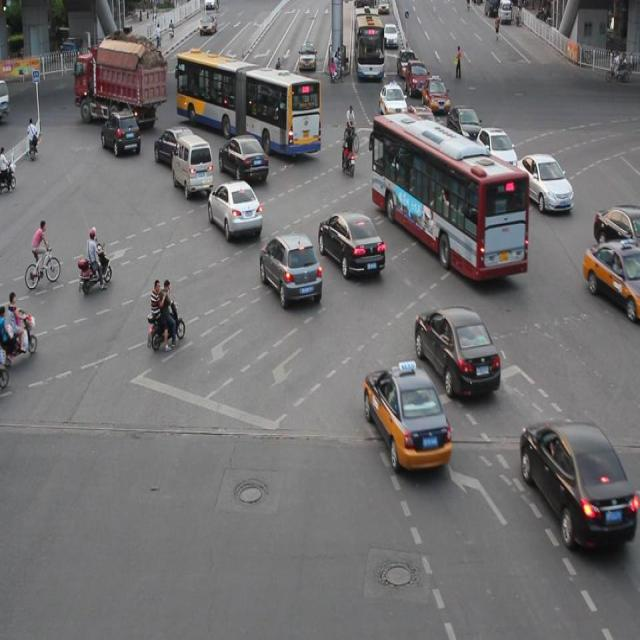bus: (75, 46, 166, 125)
car: (520, 414, 640, 547), (364, 362, 452, 468), (413, 304, 500, 395), (258, 230, 322, 306), (580, 238, 640, 318), (318, 210, 385, 277), (516, 152, 572, 213), (207, 179, 262, 241), (592, 201, 640, 262), (219, 132, 268, 182), (456, 160, 503, 212), (475, 126, 516, 174), (154, 125, 196, 168), (101, 110, 140, 156), (445, 104, 480, 146), (408, 103, 442, 146)
truck: (172, 132, 213, 195)
van: (372, 114, 527, 278), (178, 52, 320, 157)
